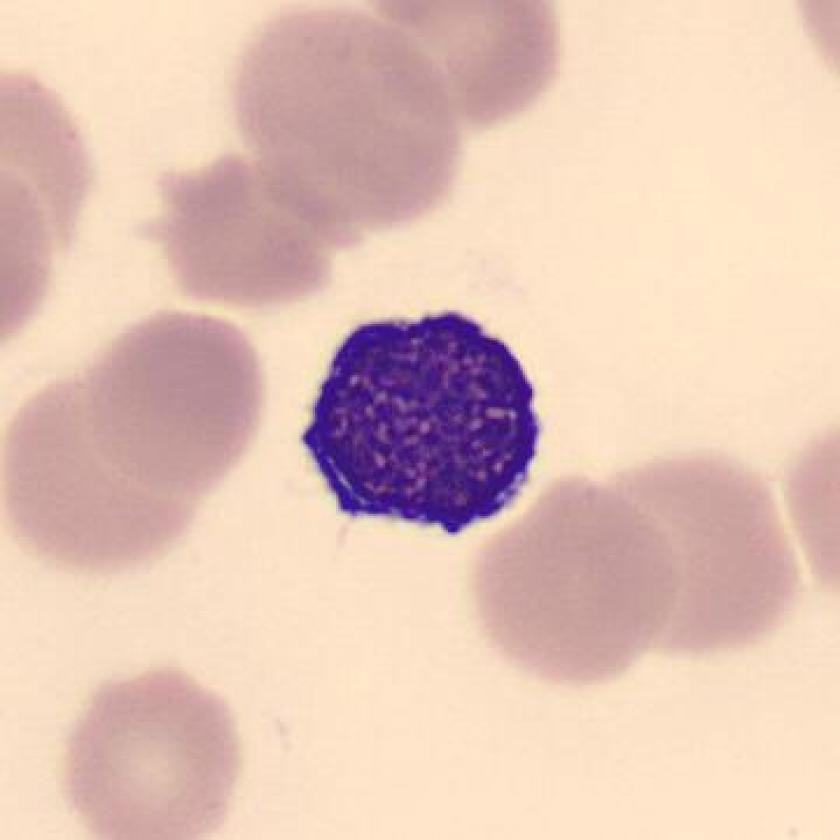lymphocyte: (288, 295, 556, 552)
